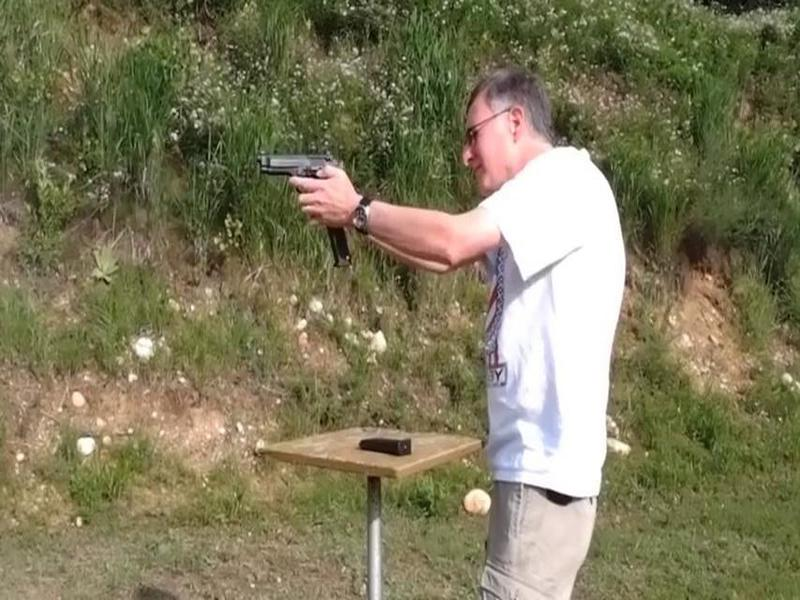Pistola: (237, 124, 382, 244)
